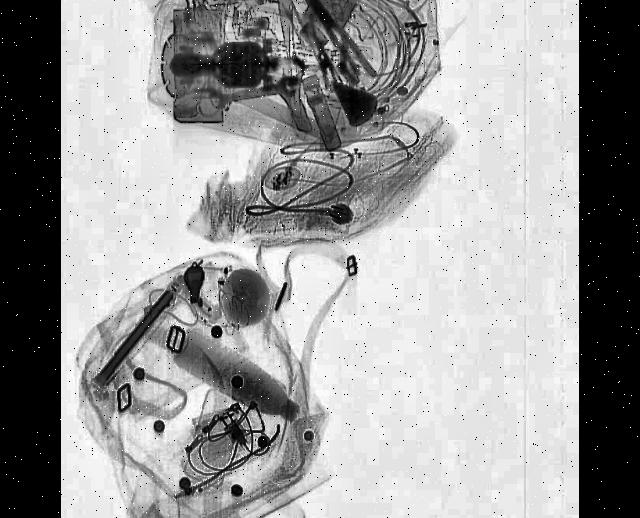Pliers: (295, 0, 378, 86)
